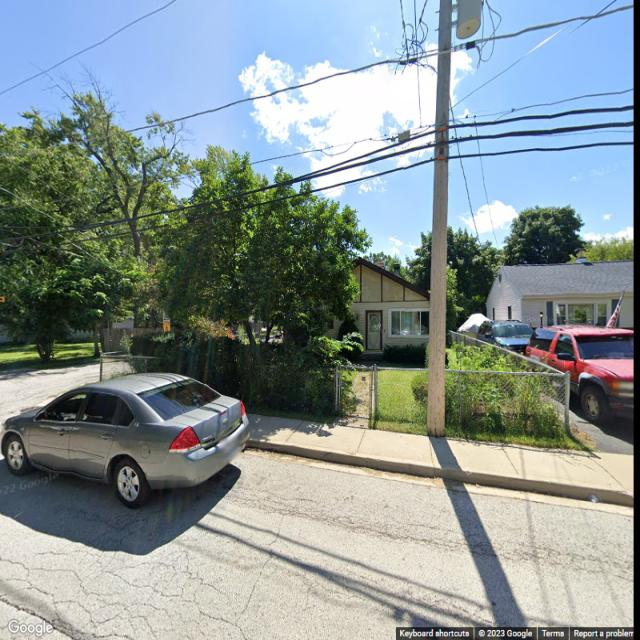House: (300, 256, 431, 357), (485, 248, 634, 331)
